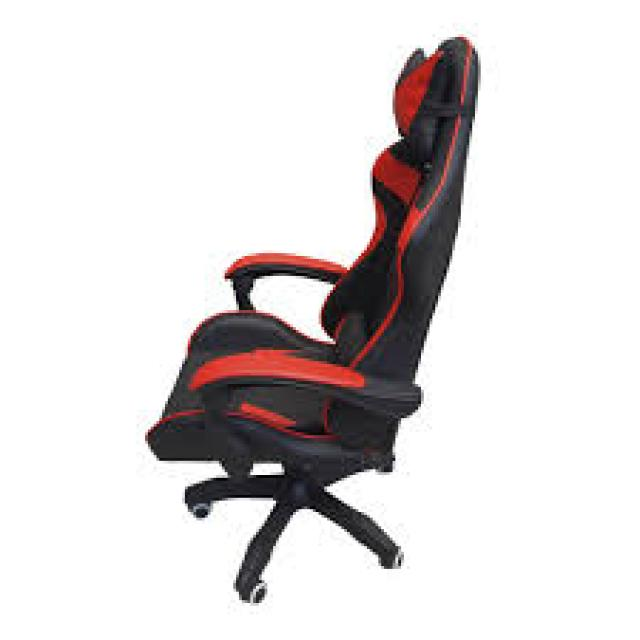bottle: (145, 33, 478, 603)
